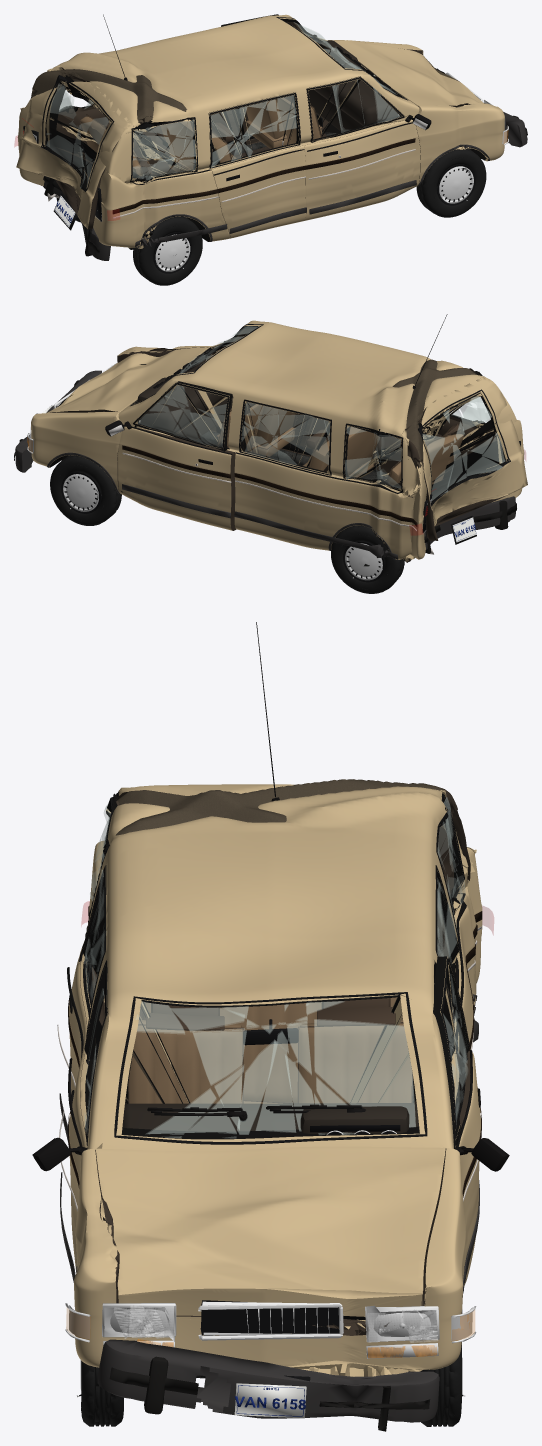
File: minivan86_rear_d1_lod1.glb
3 views of the same model, one above another, from view 1: azimuth 30°, elevation 25°; view 2: azimuth 150°, elevation 25°; view 3: azimuth 270°, elevation 25° (orthographic). The views are drawn at different scales.
Parts seen in each view (by area): view 1: Body, Interior, Door_FR, Door_SR, Liftgate, Hood, Glass, Wheel_FR_mesh, Wheel_RR_mesh, Glass_Liftgate, Trim, Glass_SR (+8 smaller); view 2: Body, Door_FL, Interior, Liftgate, Glass, Trim, Hood, Wheel_FL_mesh, Glass_Liftgate, Wheel_RL_mesh, Glass_FL, Trim_FL (+5 smaller); view 3: Body, Hood, Interior, Glass, Bumper_F, Ends, Door_FL, Trim, Lamps_Head, Door_FR, Trim_FL, Trim_FR (+7 smaller).
Boxes of the visible parts, <box> form: Body: <box>17,14,504,249</box>; Interior: <box>80,40,397,176</box>; Door_FR: <box>304,76,420,220</box>; Door_SR: <box>208,92,305,238</box>; Liftgate: <box>16,66,133,229</box>; Hood: <box>335,40,482,106</box>; Glass: <box>59,17,408,182</box>; Wheel_FR_mesh: <box>416,148,486,217</box>; Wheel_RR_mesh: <box>133,216,202,285</box>; Glass_Liftgate: <box>41,75,114,191</box>; Trim: <box>59,14,489,248</box>; Glass_SR: <box>208,95,300,168</box>; Body: <box>31,320,524,562</box>; Door_FL: <box>117,381,236,530</box>; Interior: <box>137,354,463,485</box>; Liftgate: <box>401,377,527,540</box>; Glass: <box>130,324,490,488</box>; Trim: <box>47,314,482,559</box>; Hood: <box>46,347,208,413</box>; Wheel_FL_mesh: <box>50,455,121,525</box>; Glass_Liftgate: <box>418,389,510,506</box>; Wheel_RL_mesh: <box>331,525,404,593</box>; Glass_FL: <box>137,382,230,451</box>; Trim_FL: <box>105,383,232,518</box>; Body: <box>71,779,482,1376</box>; Hood: <box>95,1146,445,1335</box>; Interior: <box>122,997,418,1134</box>; Glass: <box>90,796,465,1144</box>; Bumper_F: <box>97,1339,439,1431</box>; Ends: <box>65,1300,476,1418</box>; Door_FL: <box>433,956,480,1285</box>; Trim: <box>68,622,482,1313</box>; Lamps_Head: <box>113,1305,438,1342</box>; Door_FR: <box>69,959,108,1271</box>; Trim_FL: <box>441,957,509,1283</box>; Trim_FR: <box>32,960,107,1282</box>.
Bounding box in the file's own units: 4.41 × 2.37 × 2.07.
Materials: 34 (5 with a texture image).
